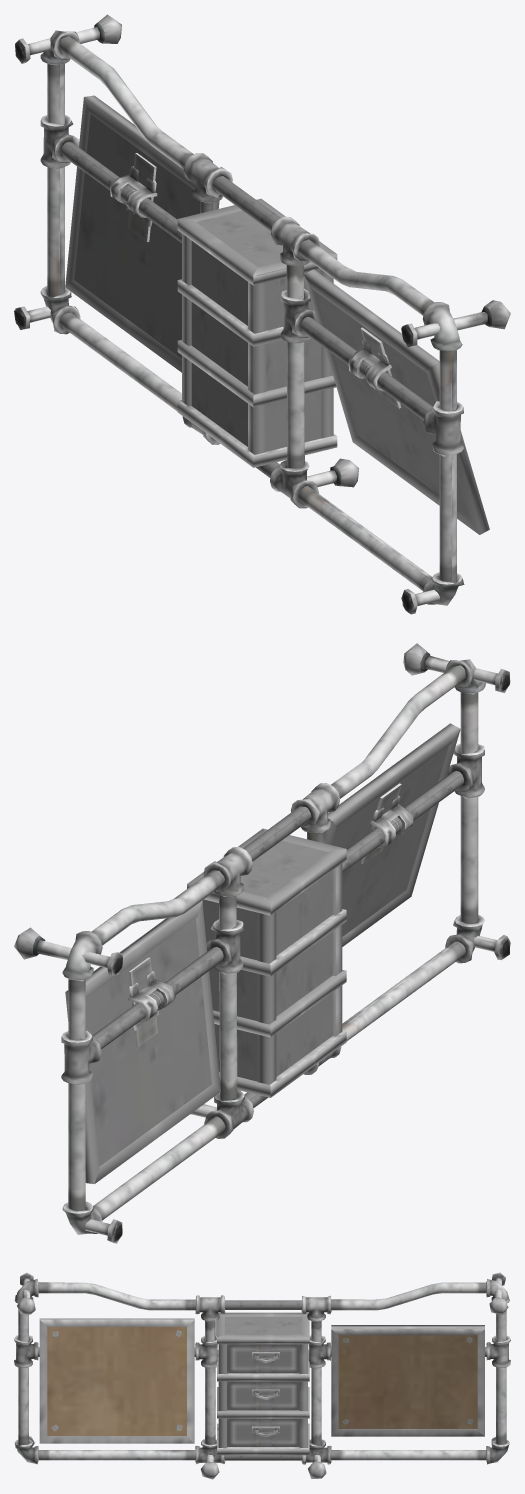
The model's file is SM_AVI_Deco_01_47eb12.glb.
3 renders of one model, top to bottom at view 1: azimuth 30°, elevation 25°; view 2: azimuth 150°, elevation 25°; view 3: azimuth 270°, elevation 25°, orthographic. The views are drawn at different scales.
Bounding box in the file's own units: 0.3057 × 0.862 × 2.11.
Materials: 1 (1 with a texture image).
